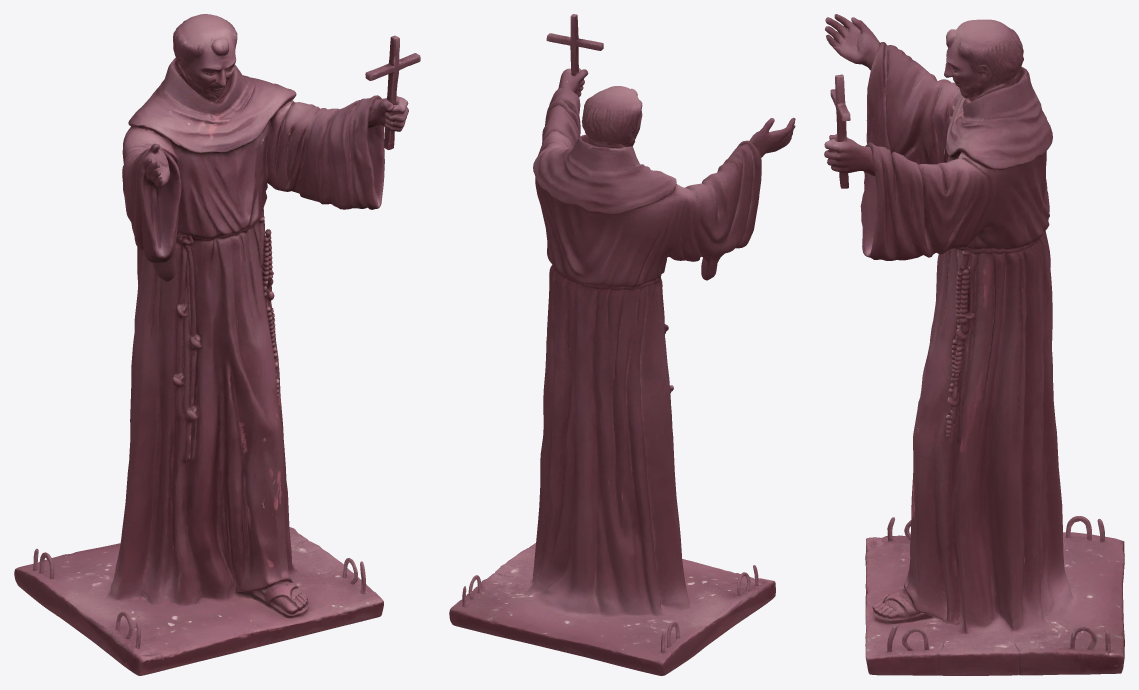
Rendered from obra-12-fray-luis-de-bolanos.glb.
3 views of the same model, side by side, from view 1: azimuth 30°, elevation 25°; view 2: azimuth 150°, elevation 25°; view 3: azimuth 270°, elevation 25° (orthographic). The views are drawn at different scales.
Size of the model in its own units: 0.9312 by 1.9 by 0.8667.
Materials: 1 (1 with a texture image).
